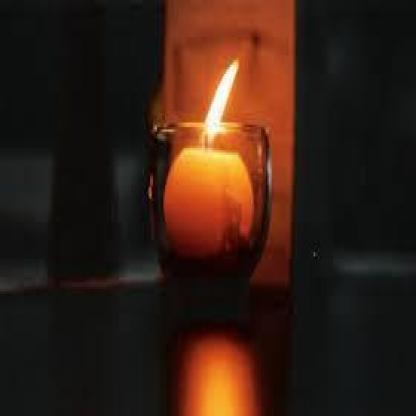fire: (192, 51, 244, 156)
